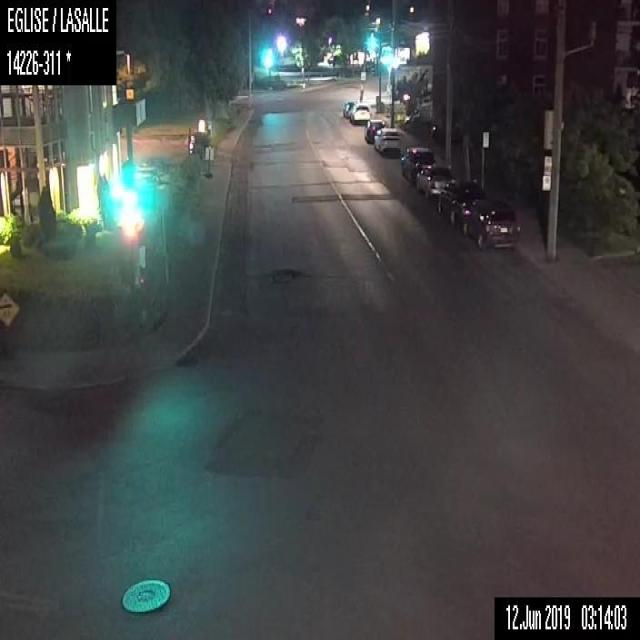vehicle: (457, 198, 524, 250), (437, 180, 482, 220), (414, 163, 454, 200), (398, 146, 436, 182), (373, 126, 405, 154), (363, 118, 387, 145), (350, 103, 372, 123), (342, 99, 358, 118)
